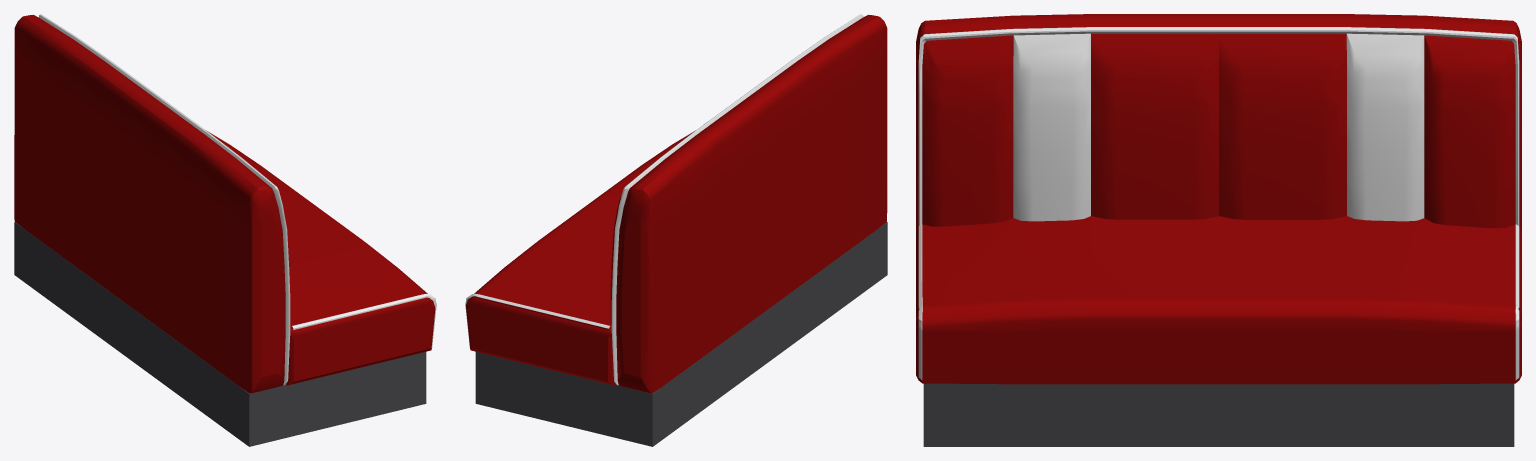
File: seat 1 (1).fbx
3 renders of one model, left to right at view 1: azimuth 30°, elevation 25°; view 2: azimuth 150°, elevation 25°; view 3: azimuth 270°, elevation 25°, orthographic. The views are drawn at different scales.
Parts seen in each view (by area): view 1: pasted__pCube8, pCube1, pCube11; view 2: pasted__pCube8, pCube1, pCube11; view 3: pasted__pCube8, pCube11, pCube1.
Boxes of the visible parts, x1,y1,x2,y2 form: pasted__pCube8: (14,14,290,393); pCube1: (14,222,426,446); pCube11: (196,123,436,385); pasted__pCube8: (610,14,887,393); pCube1: (475,222,887,446); pCube11: (465,123,705,385); pasted__pCube8: (916,14,1521,232); pCube11: (916,216,1521,384); pCube1: (923,383,1514,446).
Bounding box in the file's own units: 1.83 × 2.46 × 4.1.
